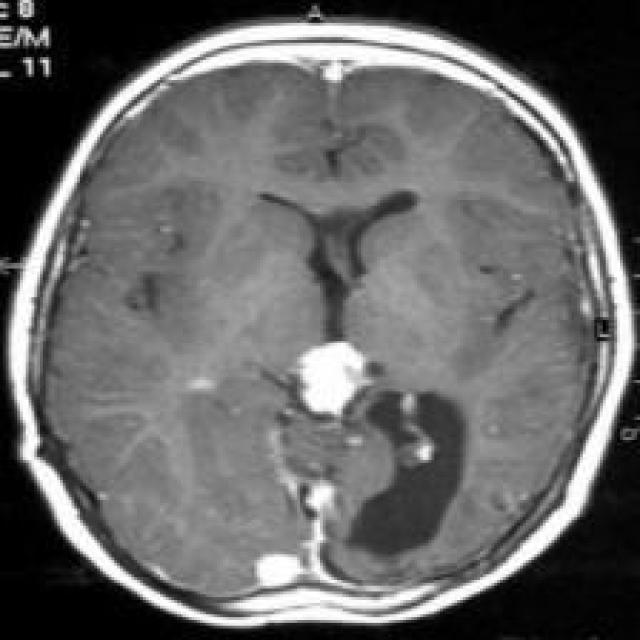Tumor: (351, 383, 463, 566), (291, 340, 366, 414)
